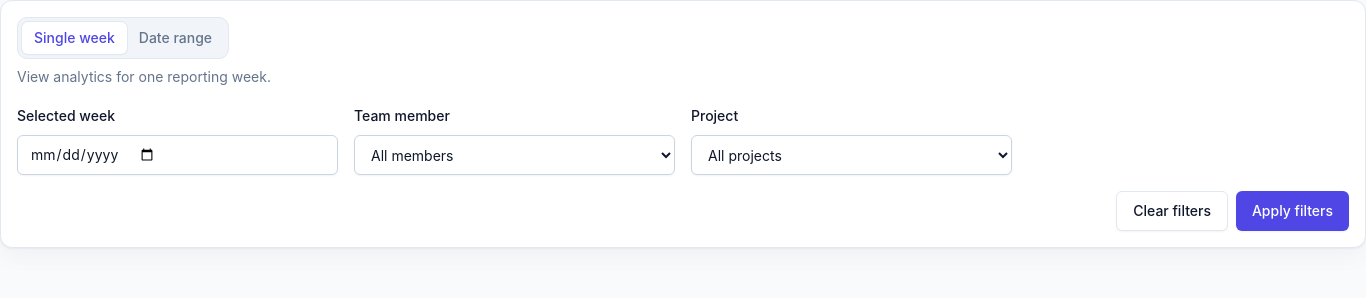
Test: dashboard components › clears filters and resets back to single week mode
The image size is (1366, 298).
Click the button "Date range".
click(175, 38)  # box [127,22,224,54]
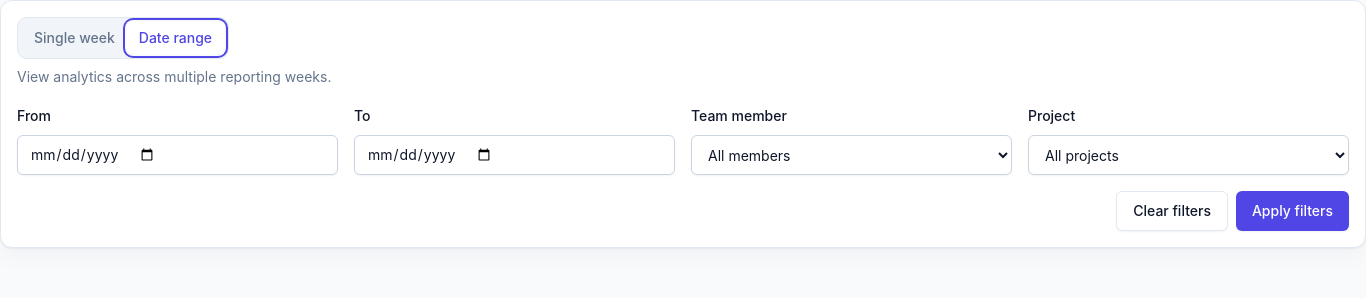
Type "2026-09-30" into the date field labelled "From".
click(178, 155); type("2026-09-30")  # box [17,135,338,175]
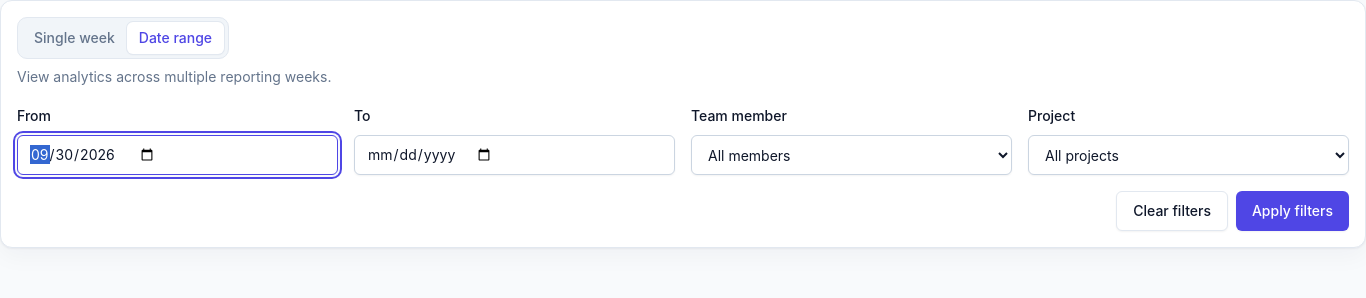
Type "2026-09-01" into the date field labelled "To".
click(514, 155); type("2026-09-01")  # box [354,135,675,175]
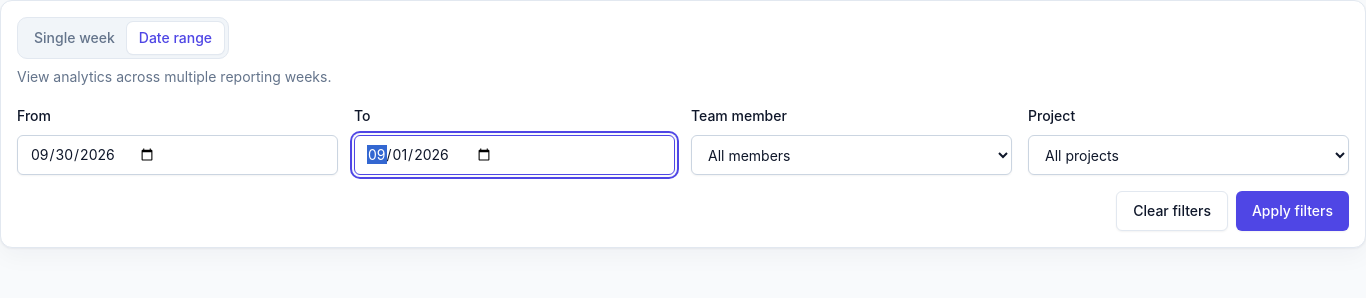
Click the button "Apply filters".
click(1292, 211)  # box [1236,191,1349,231]
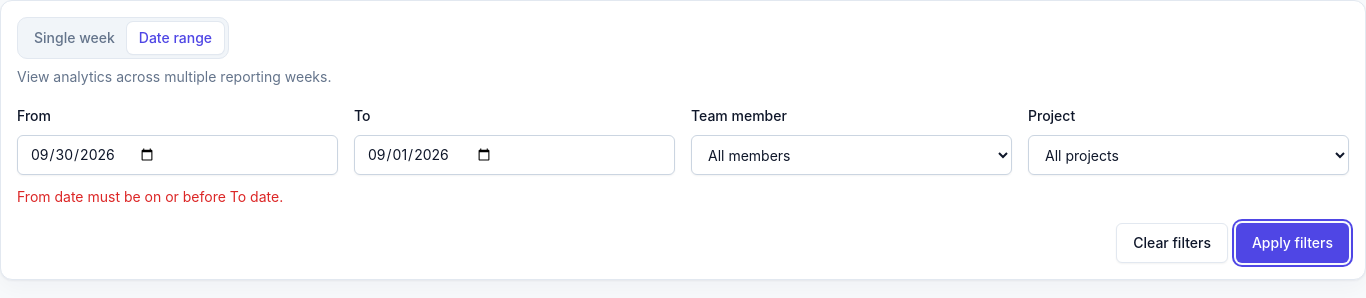
Click the button "Clear filters".
click(1172, 243)  # box [1116,223,1228,263]
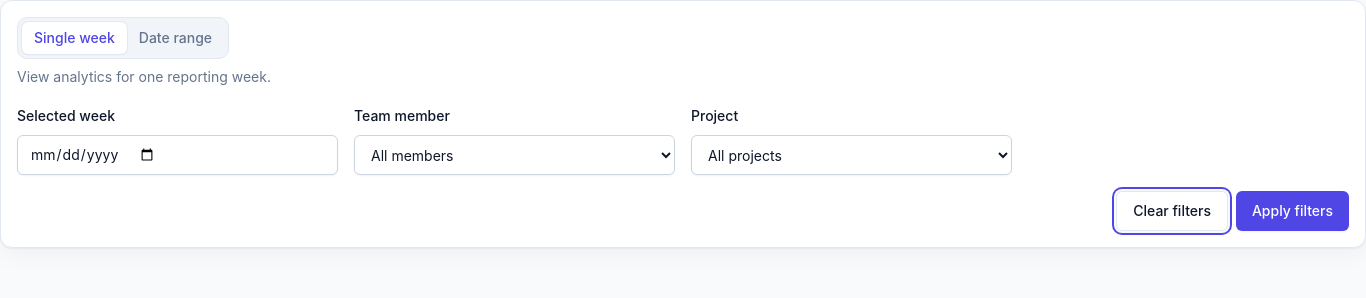
Check: the date field labelled "Selected week" is empty, box [17,135,338,175]
Check: the text "From date must be on or before To date." is gone
